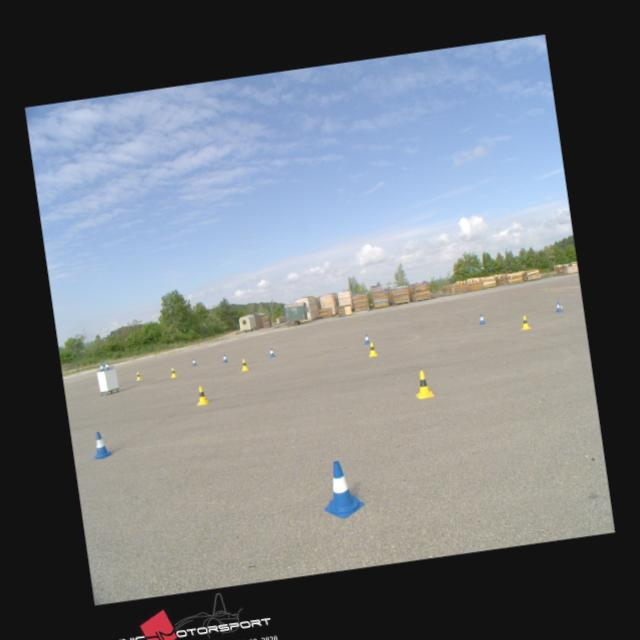blue_cone: (318, 458, 366, 520), (90, 430, 112, 459), (554, 300, 562, 312), (362, 333, 370, 344), (478, 314, 486, 324), (268, 347, 274, 357), (222, 353, 228, 363), (192, 358, 198, 366), (105, 361, 110, 370), (100, 362, 104, 371)
yellow_cone: (412, 369, 434, 399), (194, 385, 208, 405), (520, 314, 530, 330), (367, 342, 377, 356), (240, 358, 249, 370), (170, 367, 177, 378), (136, 371, 142, 381)
